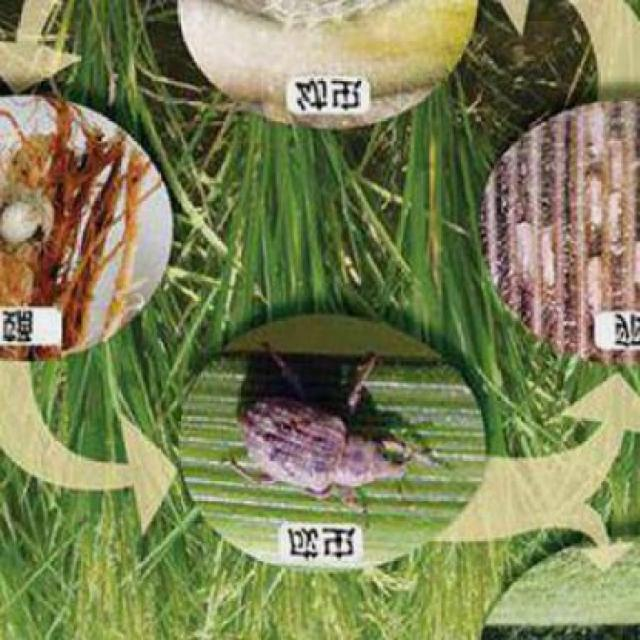rice-bug: (236, 365, 422, 509)
